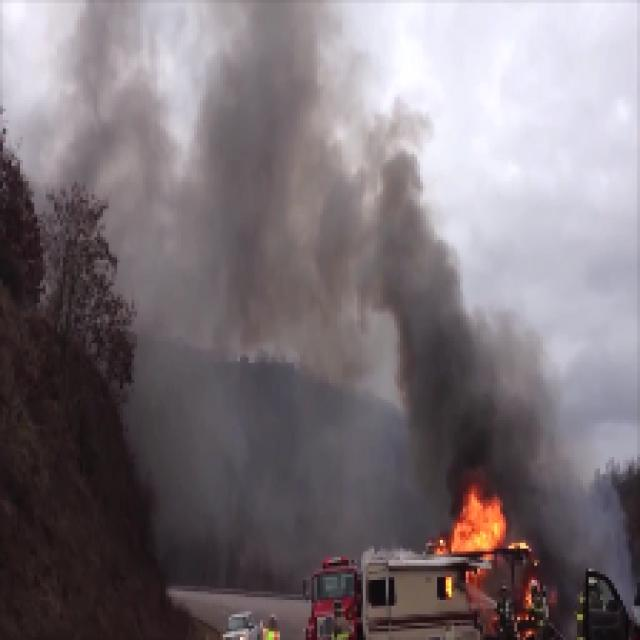smoke: (75, 2, 380, 377), (390, 174, 562, 478)
